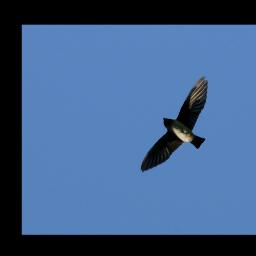Swallow: (143, 75, 210, 174)
